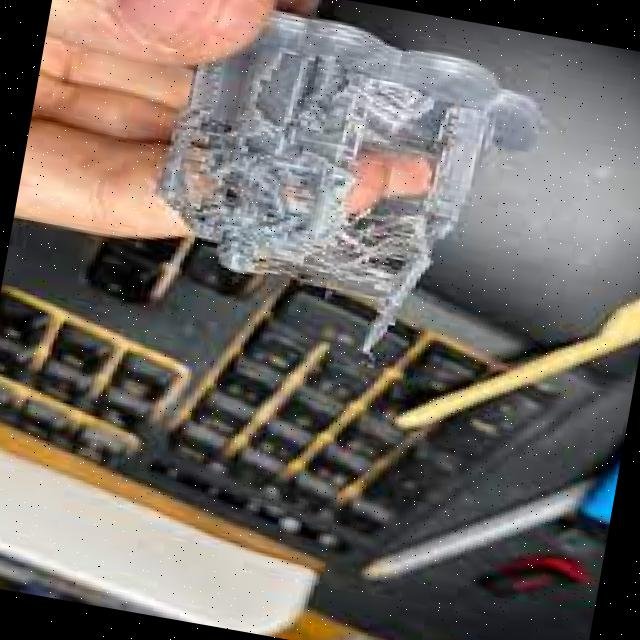spaghetti: (103, 108, 490, 346)
